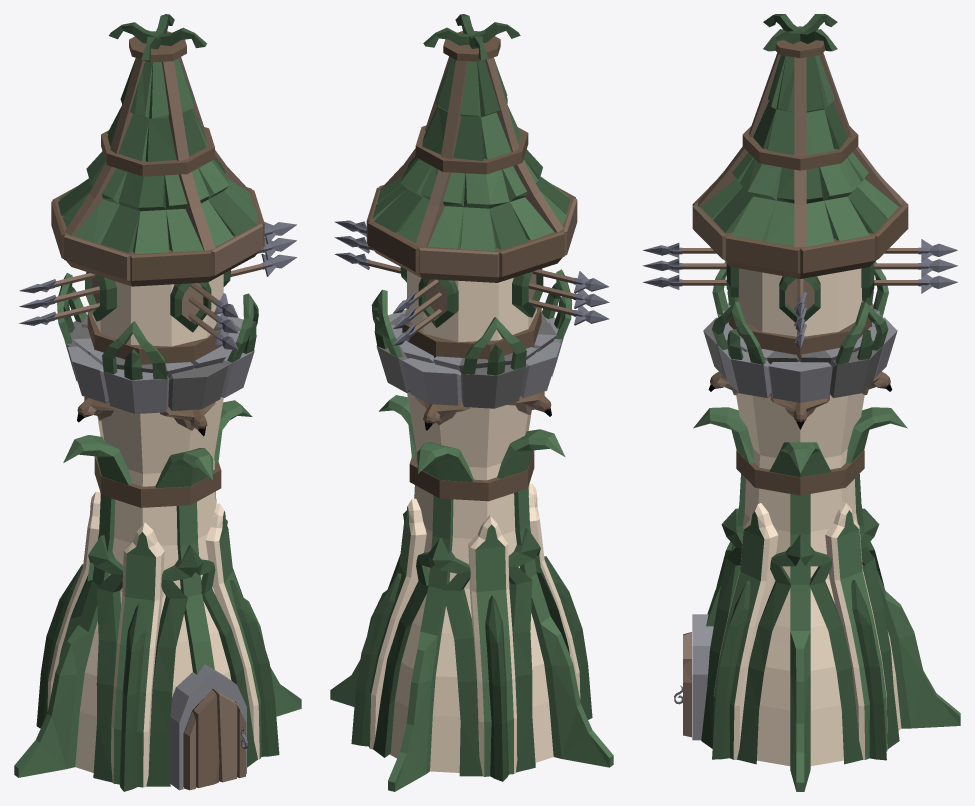
File: Archer_Tower_lv4.gltf
3 views of the same model, side by side, from view 1: azimuth 30°, elevation 25°; view 2: azimuth 150°, elevation 25°; view 3: azimuth 270°, elevation 25° (orthographic).
Visible parts, largest first — view 1: Archer_Tower_LVL_4; view 2: Archer_Tower_LVL_4; view 3: Archer_Tower_LVL_4.
Part boxes in pixels (box(x1,y1,x2,y2)): Archer_Tower_LVL_4: box(14, 14, 301, 791); Archer_Tower_LVL_4: box(330, 14, 613, 791); Archer_Tower_LVL_4: box(642, 14, 960, 791).
Bounding box in the file's own units: 3.19 × 7.71 × 3.17.
1 material, 1 textured.
